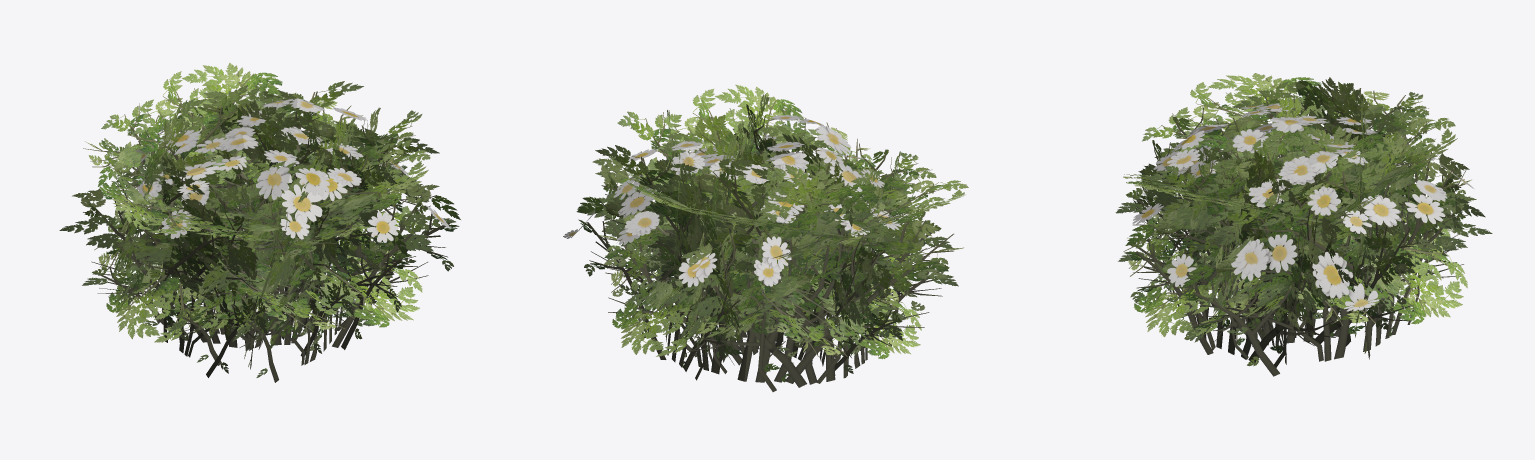
Rendered from Flowers-02.gltf.
3 renders of one model, left to right at view 1: azimuth 30°, elevation 25°; view 2: azimuth 150°, elevation 25°; view 3: azimuth 270°, elevation 25°, orthographic. The views are drawn at different scales.
Visible parts, largest first — view 1: Flowers-02; view 2: Flowers-02; view 3: Flowers-02.
Boxes of the visible parts, x1,y1,x2,y2 form: Flowers-02: (59, 63, 460, 382); Flowers-02: (563, 84, 968, 391); Flowers-02: (1115, 73, 1492, 376).
Size of the model in its own units: 1.47 by 0.9545 by 1.41.
Materials: 4 (4 with a texture image).
